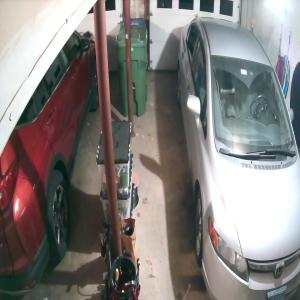garbage bin: (117, 17, 147, 118)
honda civic: (178, 16, 299, 300)
honda crv: (0, 0, 103, 295)
tool bucket: (110, 251, 140, 300)
